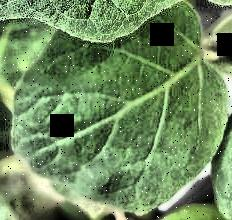HEALTHY: (1, 0, 232, 220)
